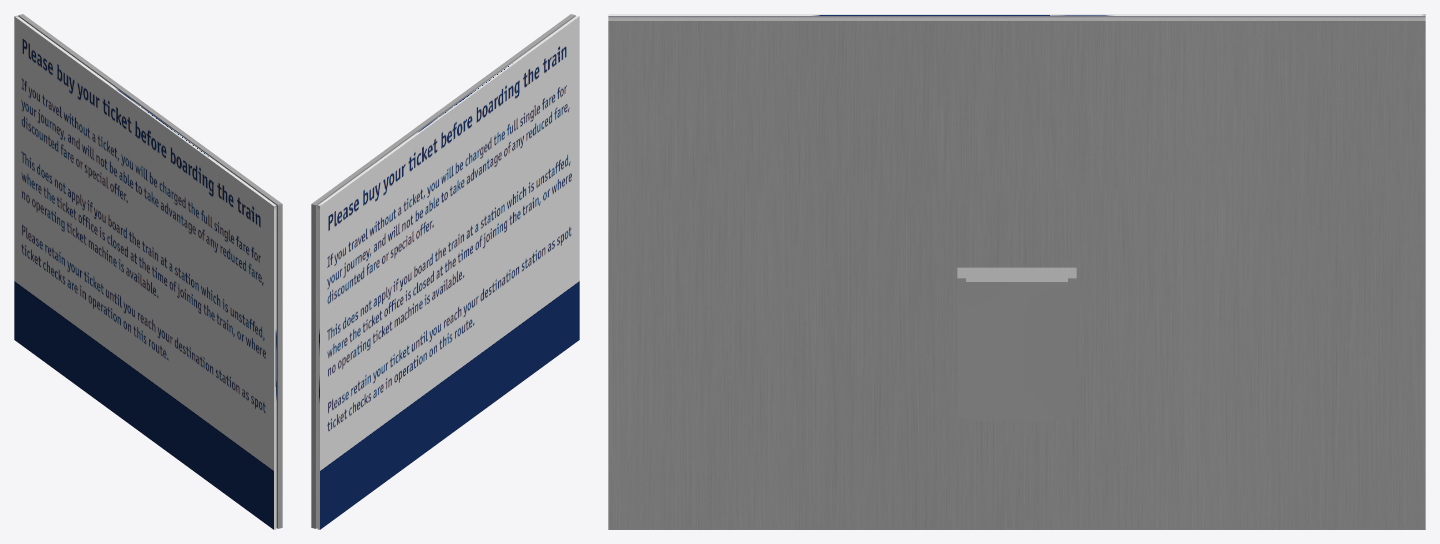
The model's file is scotrail_buy_before_you_board.obj.
3 renders of one model, left to right at view 1: azimuth 30°, elevation 25°; view 2: azimuth 150°, elevation 25°; view 3: azimuth 270°, elevation 25°, orthographic. The views are drawn at different scales.
Parts seen in each view (by area): view 1: cube; view 2: cube; view 3: cube.
Part boxes in pixels (<box>): cube: <box>14,14,282,529</box>; cube: <box>311,14,579,529</box>; cube: <box>608,14,1425,529</box>.
Size of the model in its own units: 0.0922 by 1.03 by 1.5.
2 materials, 2 textured.
